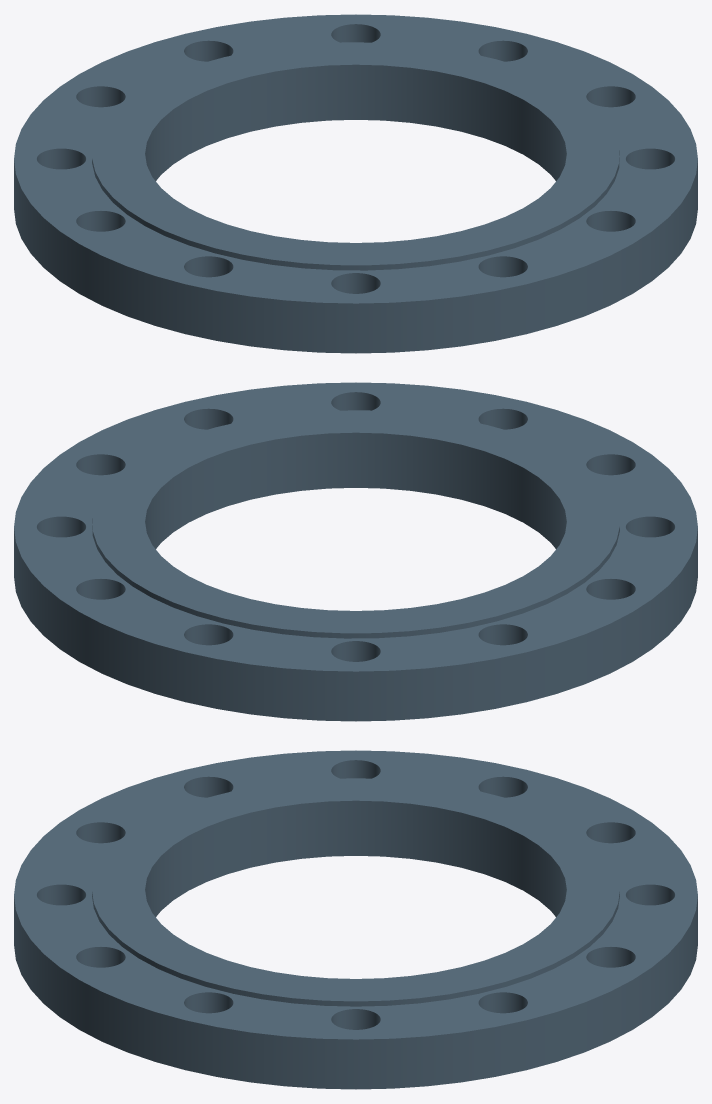
File: flanec-ploskij-DN200-PN25.glb
3 views of the same model, one above another, from view 1: azimuth 30°, elevation 25°; view 2: azimuth 150°, elevation 25°; view 3: azimuth 270°, elevation 25° (orthographic).
Visible parts, largest first — view 1: Open CASCADE STEP translator 7.9 36; view 2: Open CASCADE STEP translator 7.9 36; view 3: Open CASCADE STEP translator 7.9 36.
Part boxes in pixels (x1,y1,x2,y2): Open CASCADE STEP translator 7.9 36: (14,14,697,353); Open CASCADE STEP translator 7.9 36: (14,382,697,721); Open CASCADE STEP translator 7.9 36: (14,750,697,1089).
Bounding box in the file's own units: 360 × 32 × 360.
